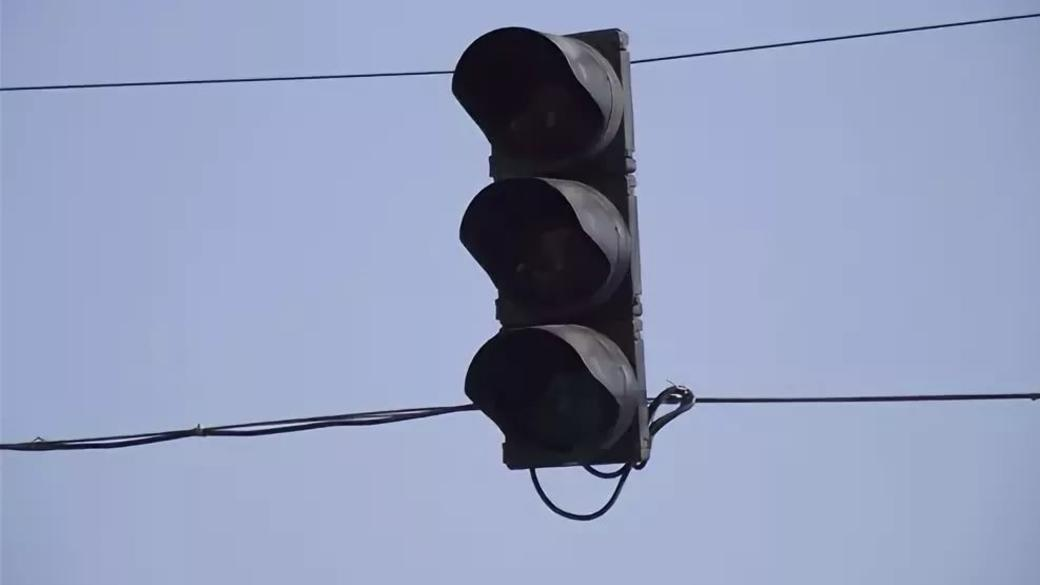off traffic light: (451, 27, 656, 493)
